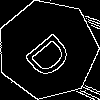D: (22, 25, 82, 82)
